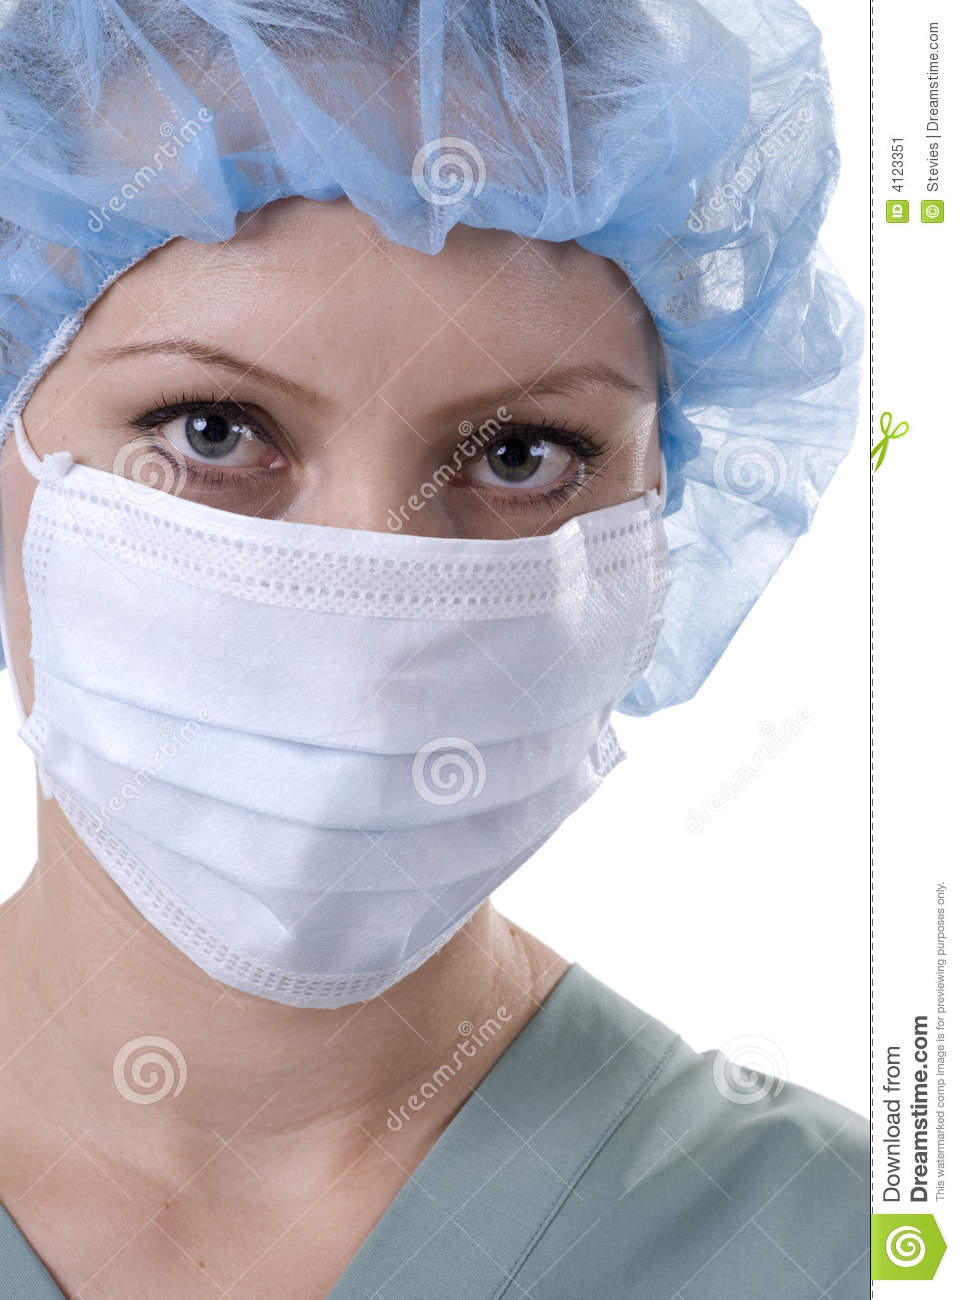mask: (46, 463, 668, 987)
